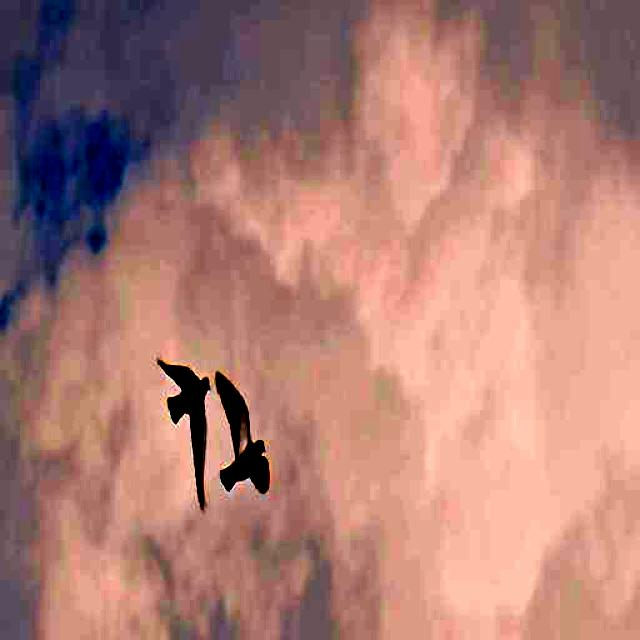airplane: (210, 318, 291, 552), (154, 352, 219, 515)
